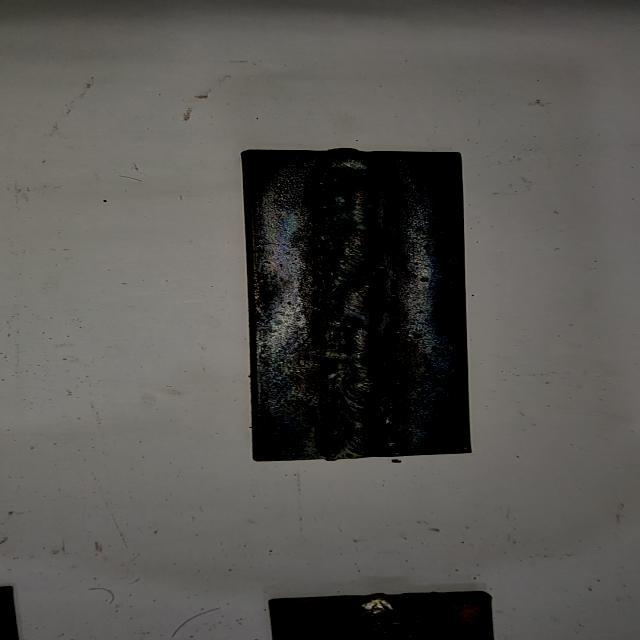Defect: (306, 316, 404, 364), (347, 599, 424, 640)
Welding Line: (332, 152, 388, 456)
Workpiece: (234, 140, 476, 466), (263, 586, 507, 640)
